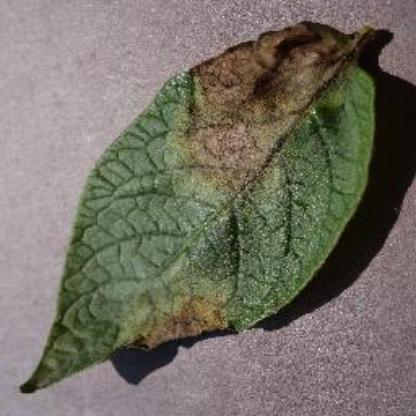Late-Blight: (23, 20, 387, 398)
